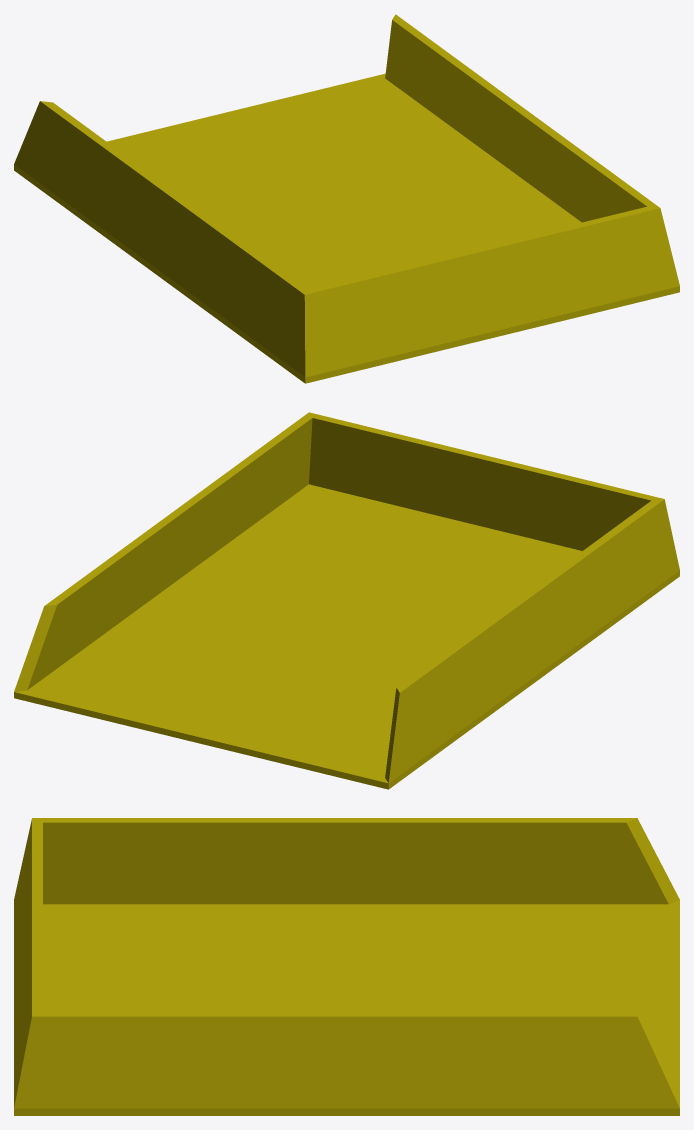
Rendered from office_prop_box_03.FBX.
The picture shows the model from 3 angles, top to bottom: view 1: azimuth 30°, elevation 25°; view 2: azimuth 150°, elevation 25°; view 3: azimuth 270°, elevation 25°; orthographic projection. The views are drawn at different scales.
Visible parts, largest first — view 1: office_prop_box_03; view 2: office_prop_box_03; view 3: office_prop_box_03.
Boxes of the visible parts, bbox=[...] form: office_prop_box_03: bbox=[14, 14, 679, 383]; office_prop_box_03: bbox=[14, 412, 679, 789]; office_prop_box_03: bbox=[14, 818, 679, 1115].
Size of the model in its own units: 31.35 by 6.5 by 42.23.
